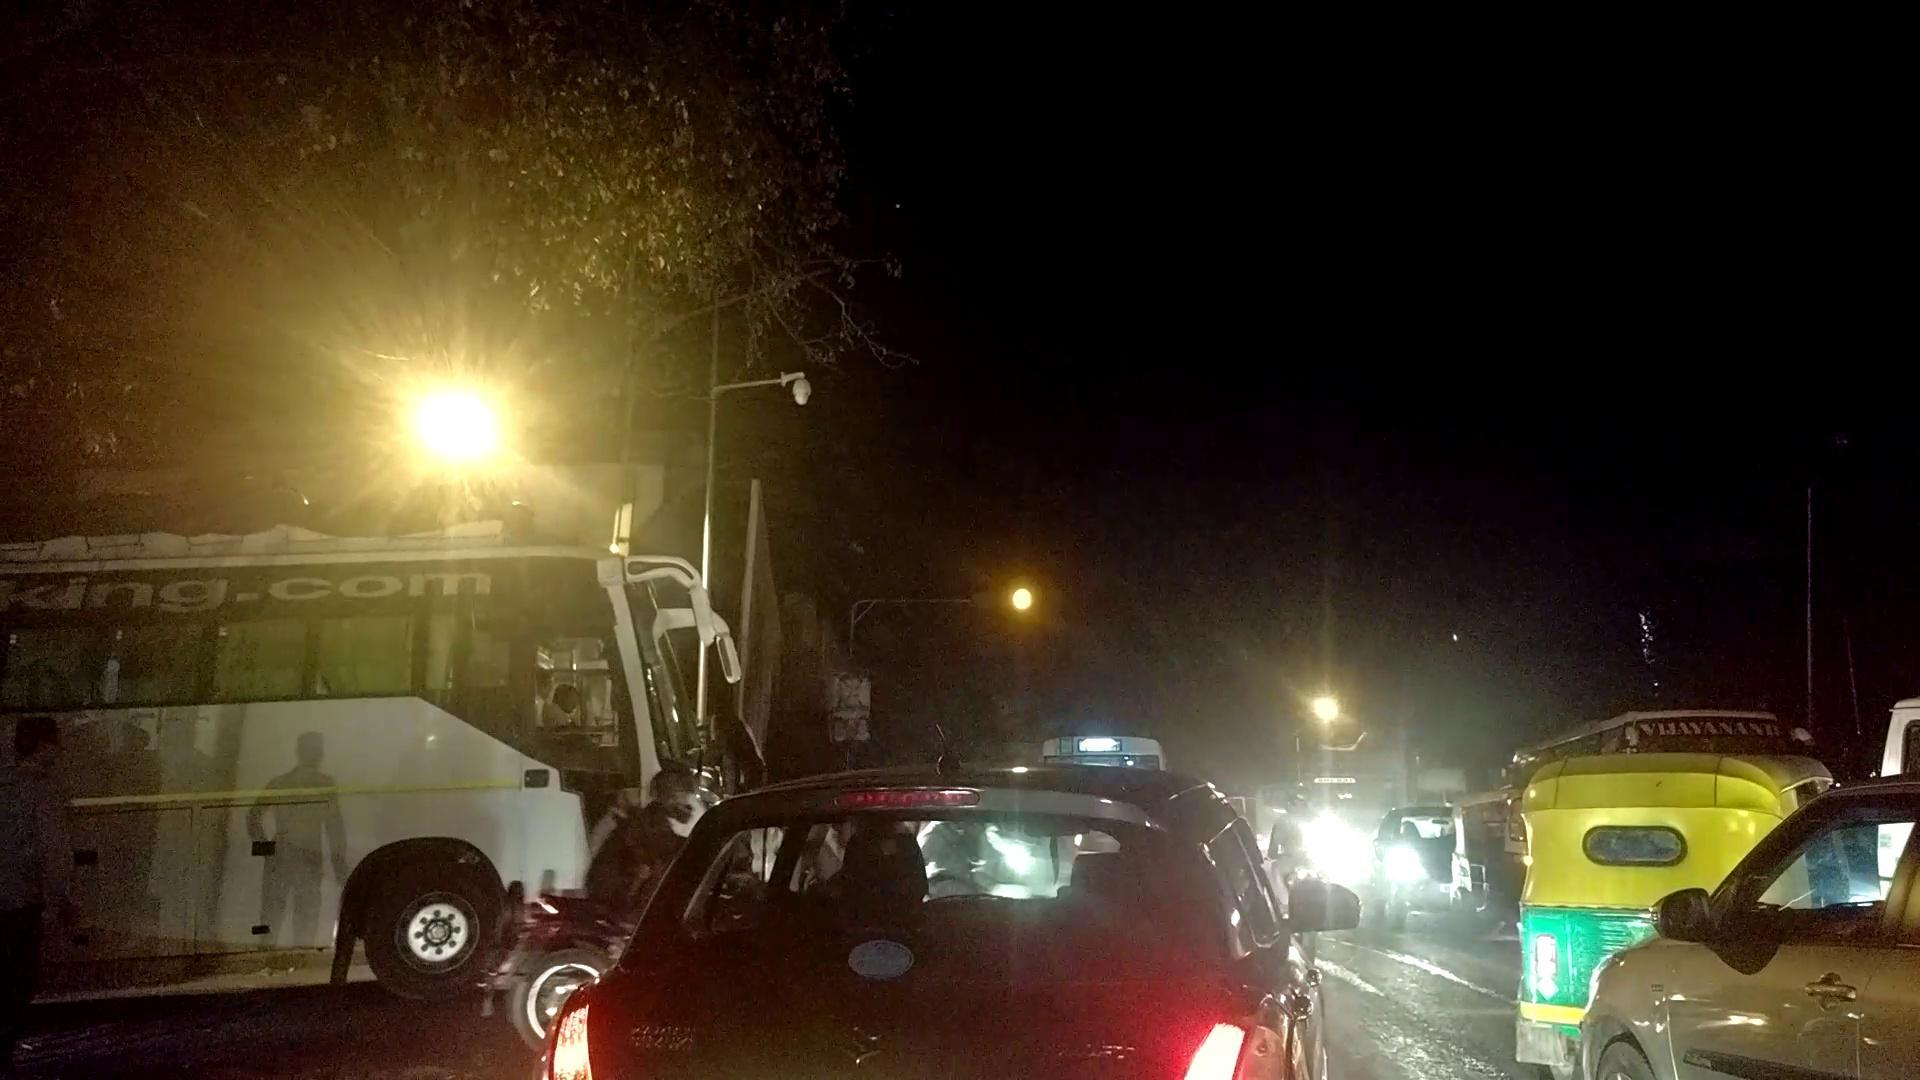on: (371, 232, 799, 667)
